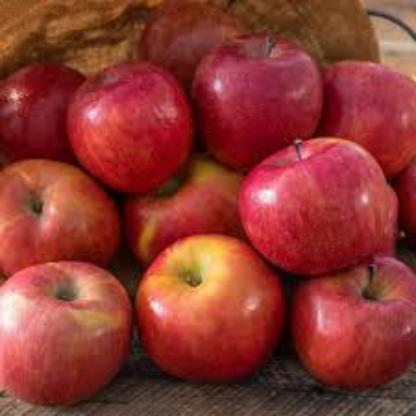apple: (128, 250, 288, 376), (194, 32, 326, 166), (244, 144, 392, 256), (72, 46, 188, 188), (5, 268, 125, 398), (297, 264, 413, 378), (301, 57, 413, 167), (0, 163, 110, 268), (131, 174, 241, 260), (2, 60, 70, 144)
